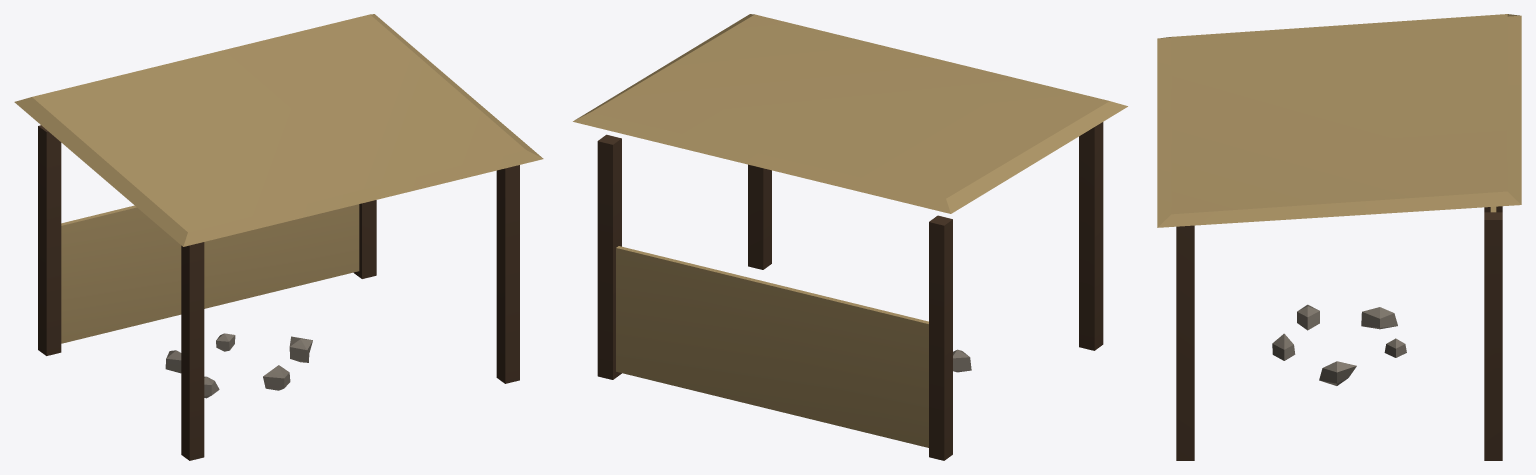
Rendered from caral_camp_shelter_lod1.glb.
The picture shows the model from 3 angles, left to right: view 1: azimuth 30°, elevation 25°; view 2: azimuth 150°, elevation 25°; view 3: azimuth 270°, elevation 25°; orthographic projection. The views are drawn at different scales.
Parts seen in each view (by area): view 1: GEO-Arch_camp_shelter_LOD1; view 2: GEO-Arch_camp_shelter_LOD1; view 3: GEO-Arch_camp_shelter_LOD1.
Boxes of the visible parts, box(x1,y1,x2,y2) form: GEO-Arch_camp_shelter_LOD1: box(14, 14, 543, 460); GEO-Arch_camp_shelter_LOD1: box(573, 14, 1127, 460); GEO-Arch_camp_shelter_LOD1: box(1157, 14, 1521, 460).
Size of the model in its own units: 3.2 by 2.15 by 2.6.
